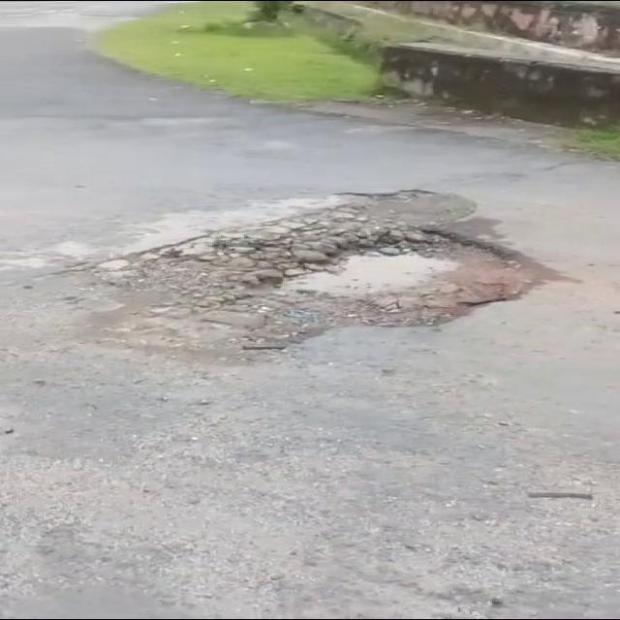lubang: (90, 190, 542, 350)
